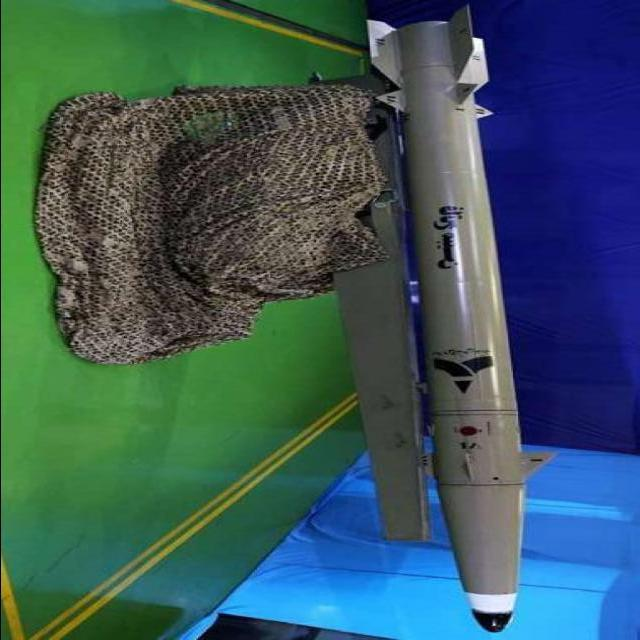missile: (359, 0, 554, 640)
